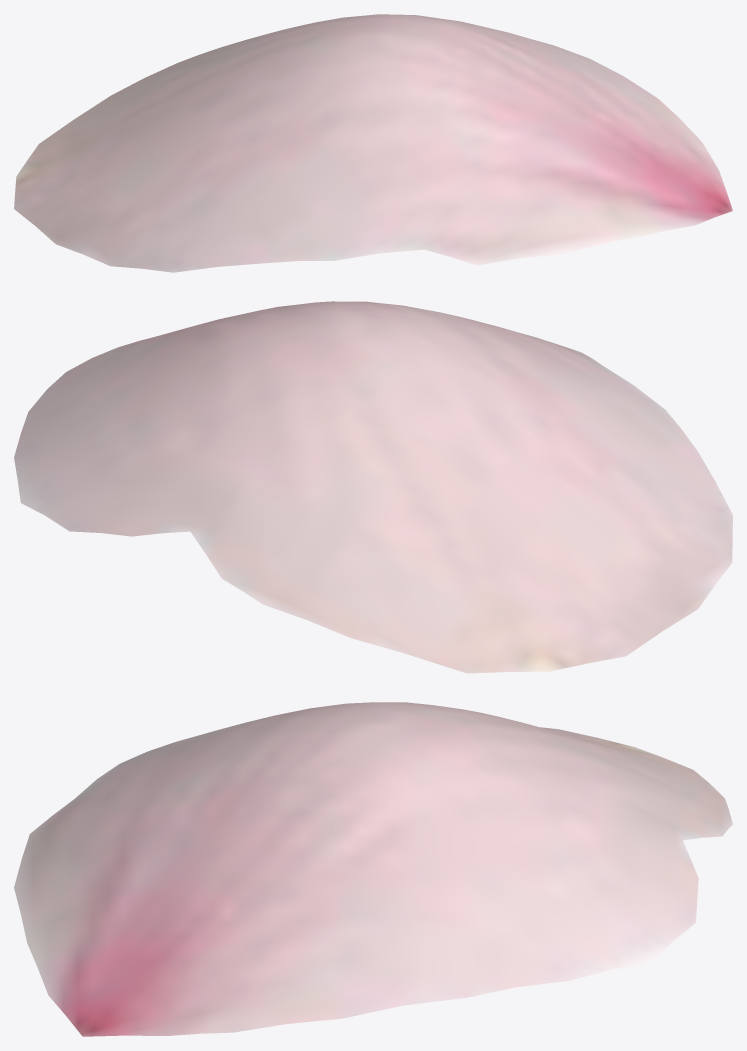
File: petal1.glb
3 renders of one model, top to bottom at view 1: azimuth 30°, elevation 25°; view 2: azimuth 150°, elevation 25°; view 3: azimuth 270°, elevation 25°, orthographic. The views are drawn at different scales.
Visible parts, largest first — view 1: 01.013_petal03_0; view 2: 01.013_petal03_0; view 3: 01.013_petal03_0.
Part boxes in pixels (left/top/right/bottom): 01.013_petal03_0: left=14, top=14, right=732, bottom=272; 01.013_petal03_0: left=14, top=301, right=732, bottom=673; 01.013_petal03_0: left=14, top=702, right=732, bottom=1036.
Bounding box in the file's own units: 0.9717 × 0.2459 × 0.8609.
Materials: 1 (1 with a texture image).
